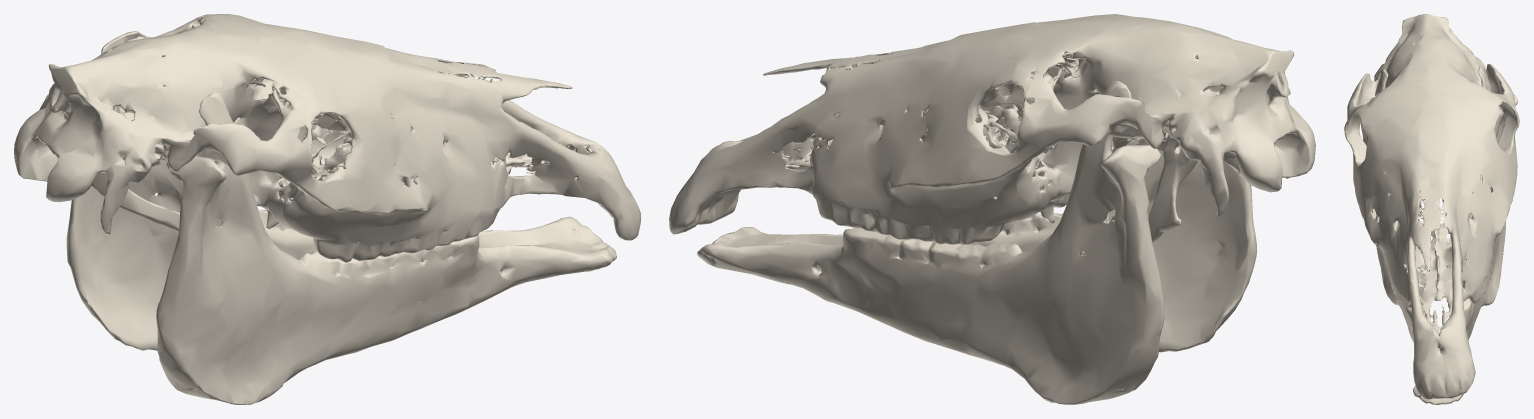
File: equine-skull-edinburgh-detail-adbca8b69dc9.glb
3 views of the same model, side by side, from view 1: azimuth 30°, elevation 25°; view 2: azimuth 150°, elevation 25°; view 3: azimuth 270°, elevation 25° (orthographic). The views are drawn at different scales.
Parts seen in each view (by area): view 1: specimen; view 2: specimen; view 3: specimen.
Boxes of the visible parts, bbox=[...] form: specimen: bbox=[14, 14, 640, 404]; specimen: bbox=[669, 14, 1315, 404]; specimen: bbox=[1344, 14, 1519, 404].
Bounding box in the file's own units: 2 × 1.12 × 0.7574.
